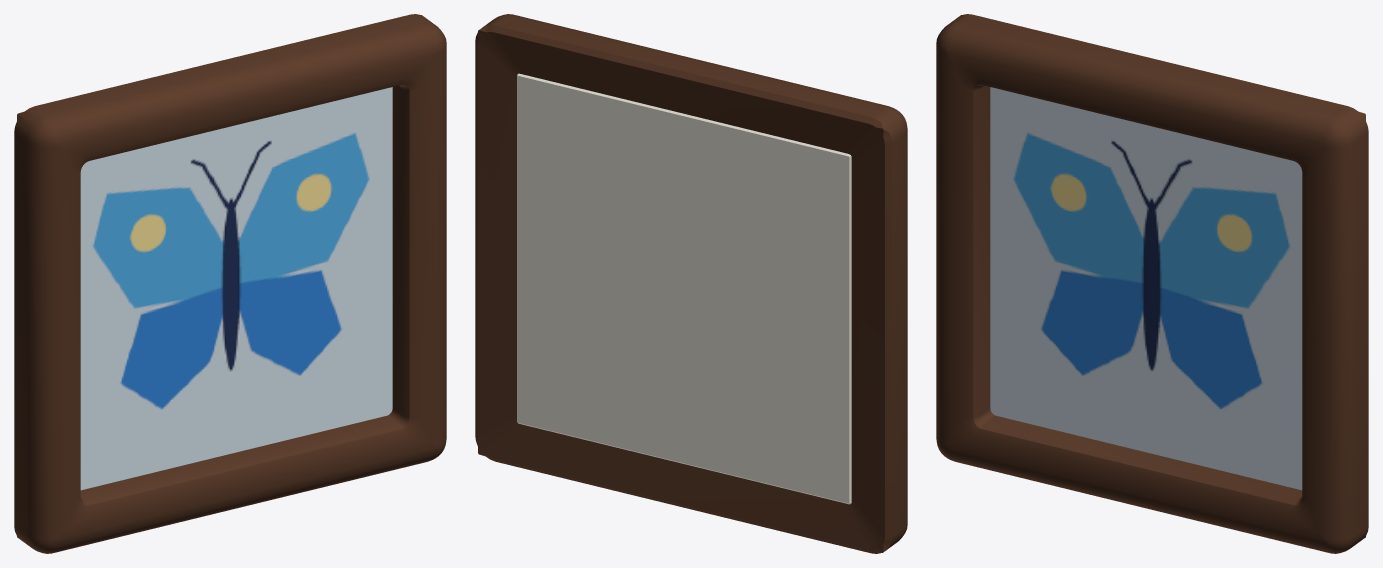
The model's file is quadro_borboleta.glb.
3 renders of one model, left to right at view 1: azimuth 30°, elevation 25°; view 2: azimuth 150°, elevation 25°; view 3: azimuth 330°, elevation 25°, orthographic.
Parts seen in each view (by area): view 1: quadro_borboleta; view 2: quadro_borboleta; view 3: quadro_borboleta.
Part boxes in pixels (box(x1,y1,x2,y2)): quadro_borboleta: box(14, 14, 446, 553); quadro_borboleta: box(475, 14, 907, 553); quadro_borboleta: box(936, 14, 1368, 553).
Bounding box in the file's own units: 0.284 × 0.284 × 0.032.
Materials: 2 (2 with a texture image).
